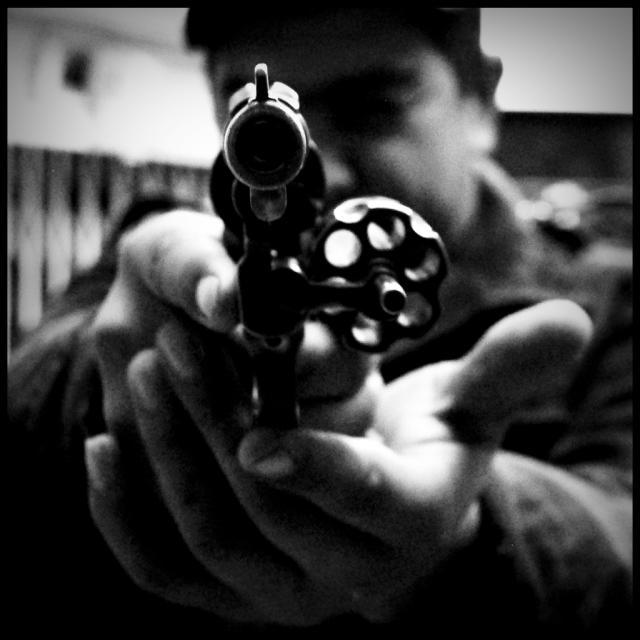Gun: (211, 64, 448, 428)
